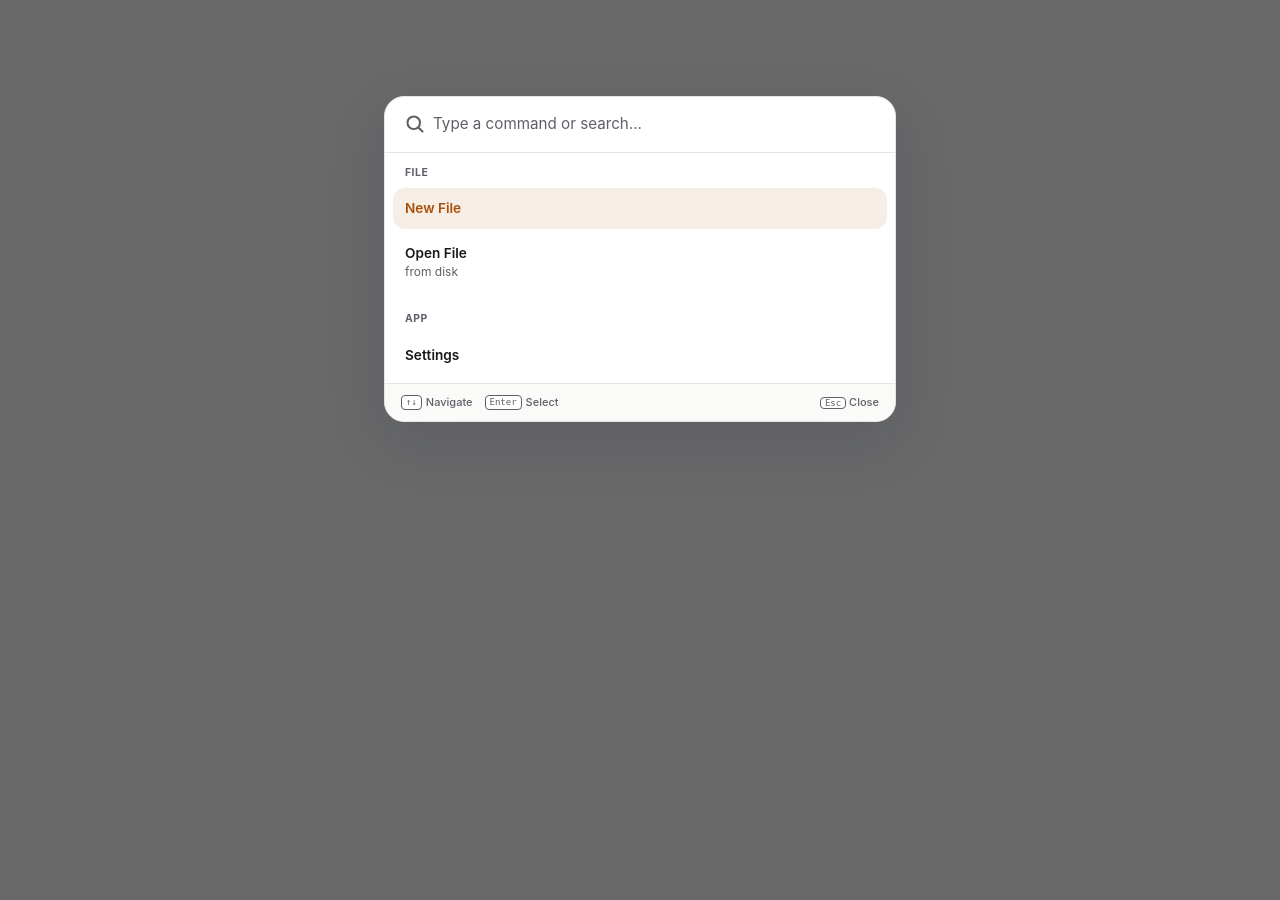
CommandPalette › filtering › filters by title, case-insensitively
The width and height of the screenshot is (1280, 900).
Type "OPEN" into the dropdown.
click(656, 124); type("OPEN")  # box [433,113,879,136]
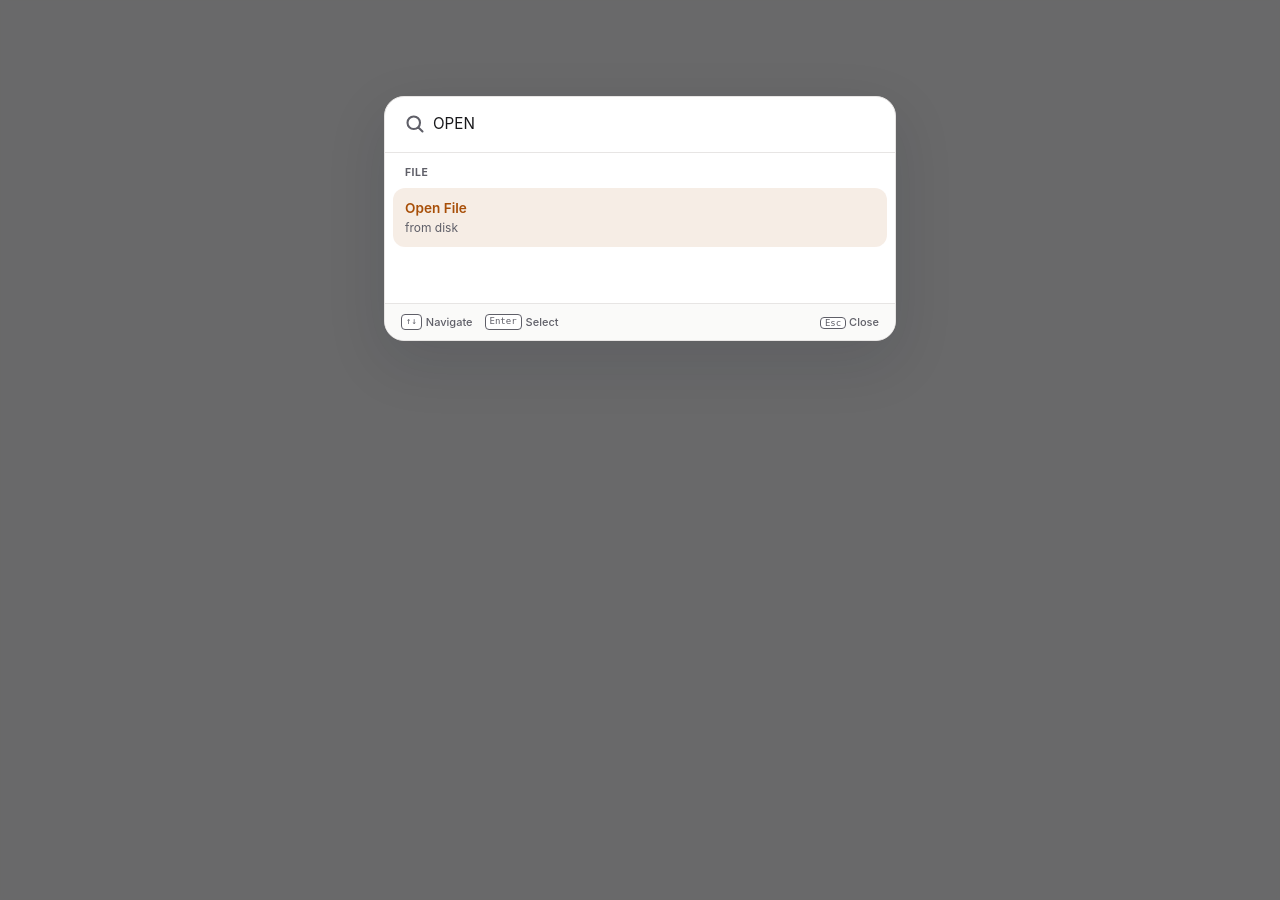
Check: the option shows "Open File", box [393,188,887,247]
Check: the number of options is 1, box [393,188,887,247]
